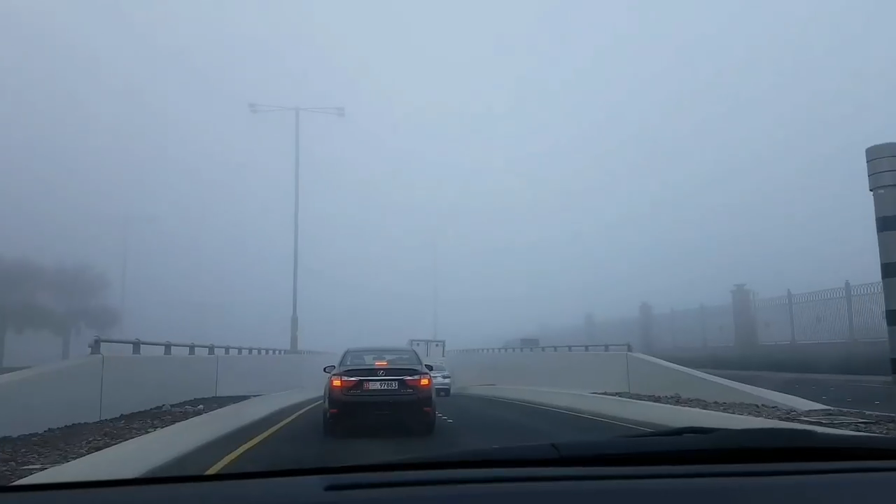bus: (396, 338, 448, 389)
car: (319, 345, 438, 433), (406, 361, 454, 397)
